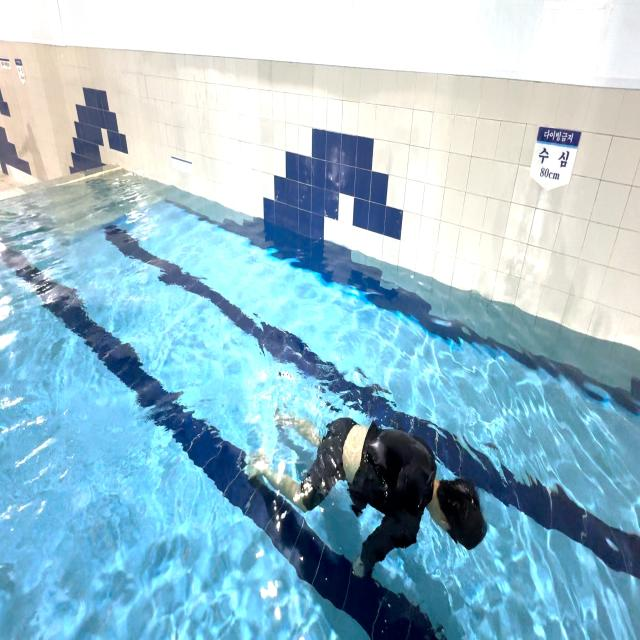Drowning: (241, 386, 489, 608)
